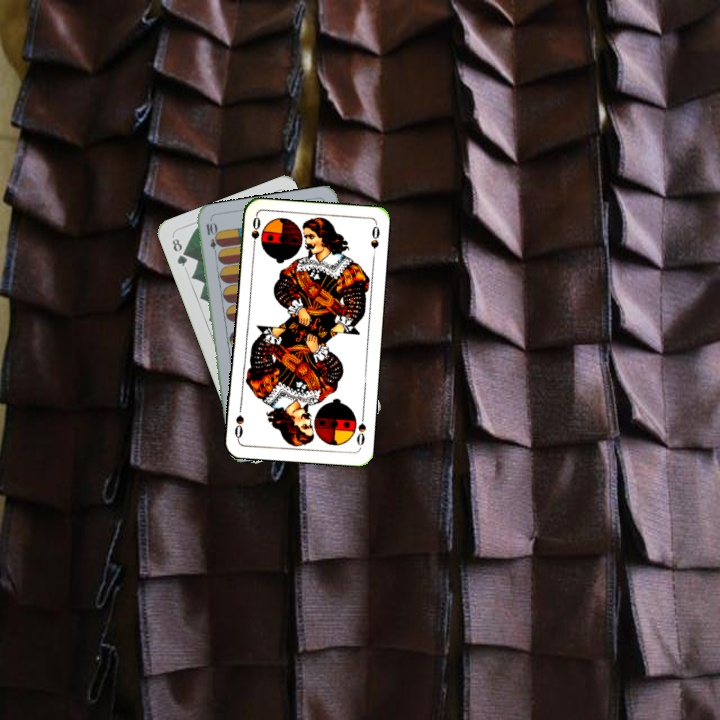E10: (202, 218, 221, 259)
G8: (168, 233, 190, 269)
SO: (247, 213, 263, 253), (352, 409, 368, 448)
